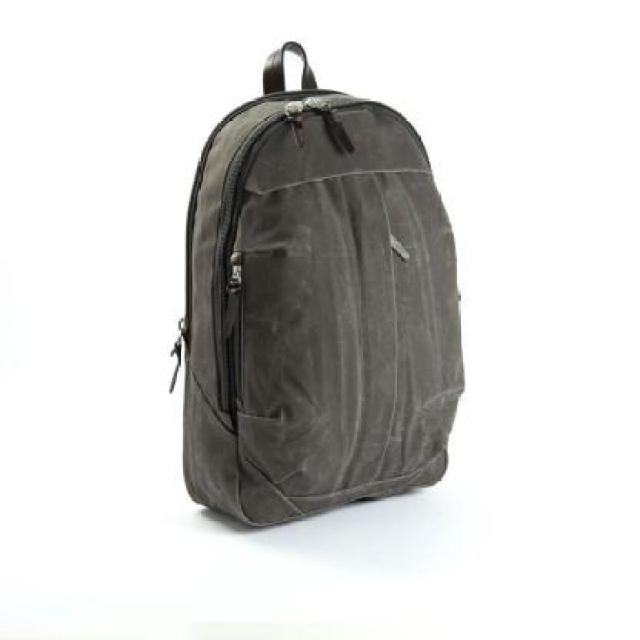backpack: (174, 34, 475, 534)
